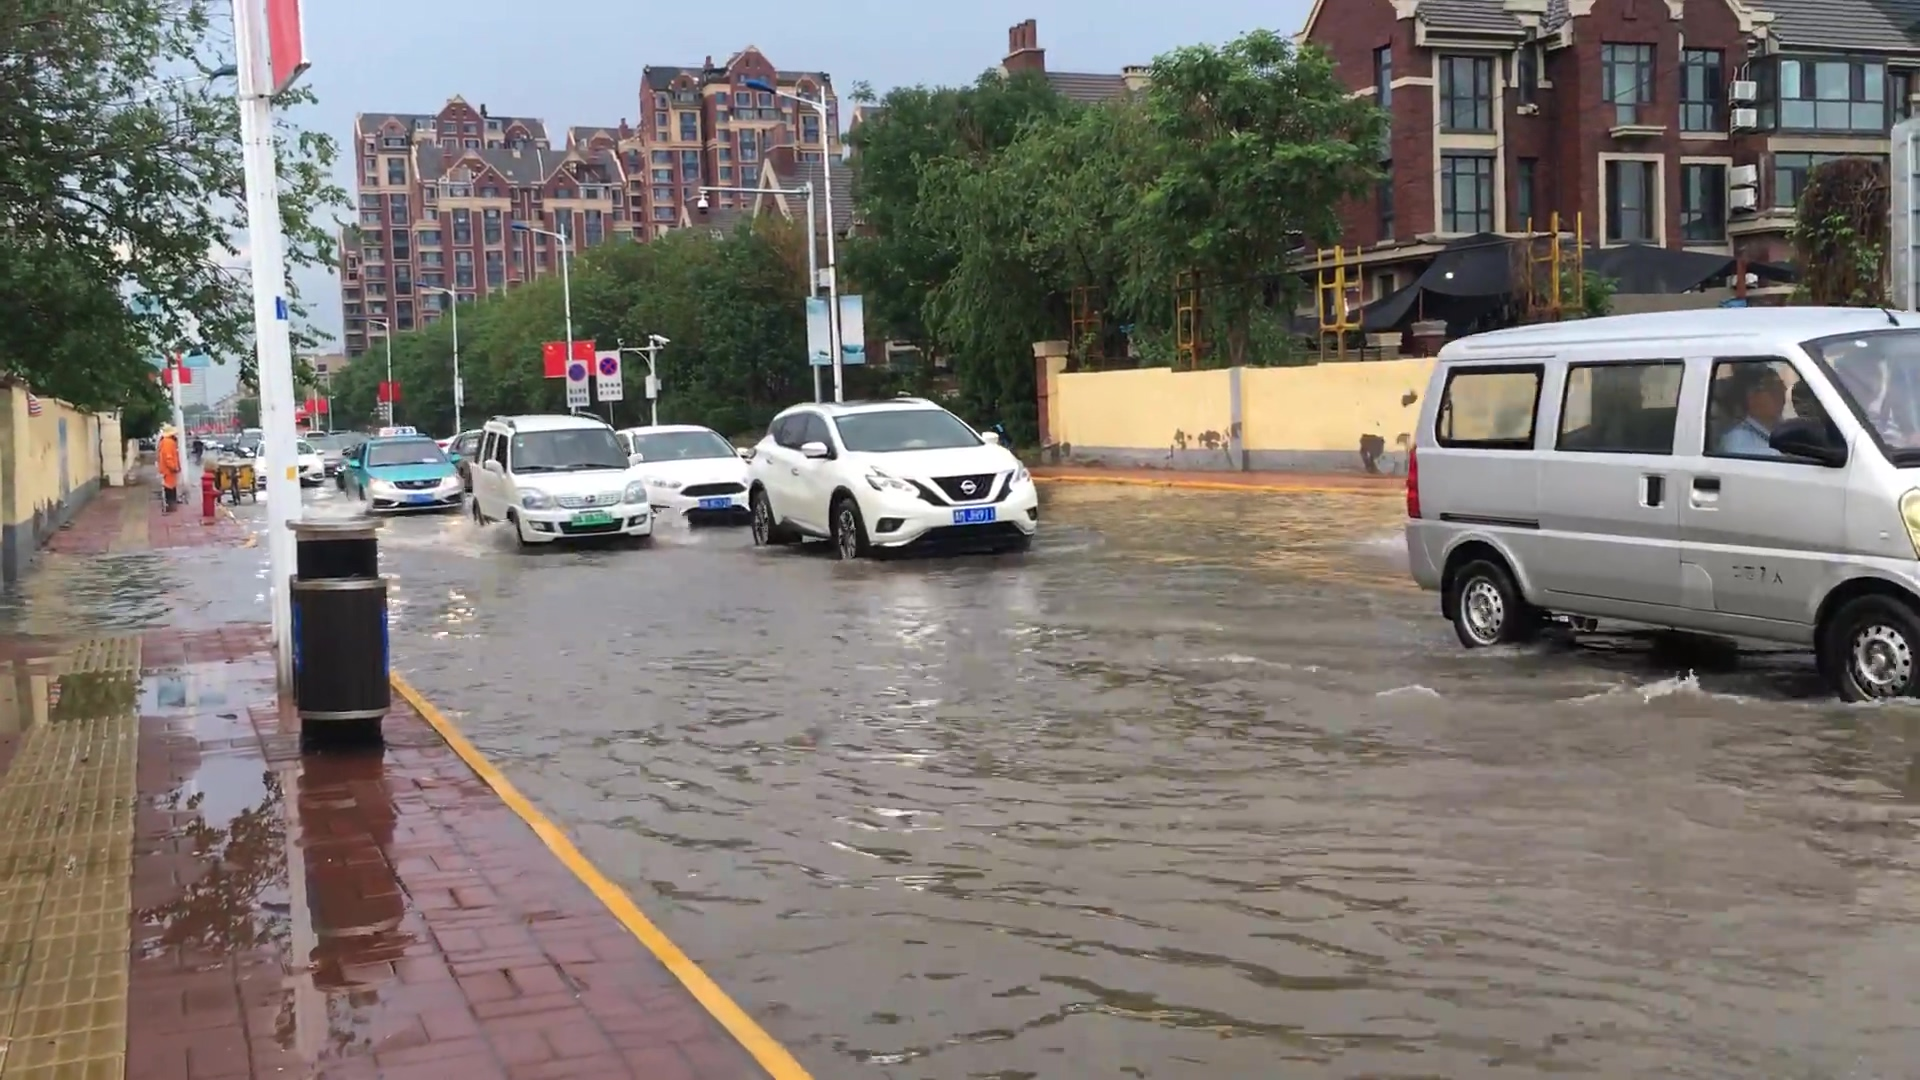puddle: (483, 534, 1920, 1080), (175, 773, 411, 1048), (25, 671, 258, 717)
